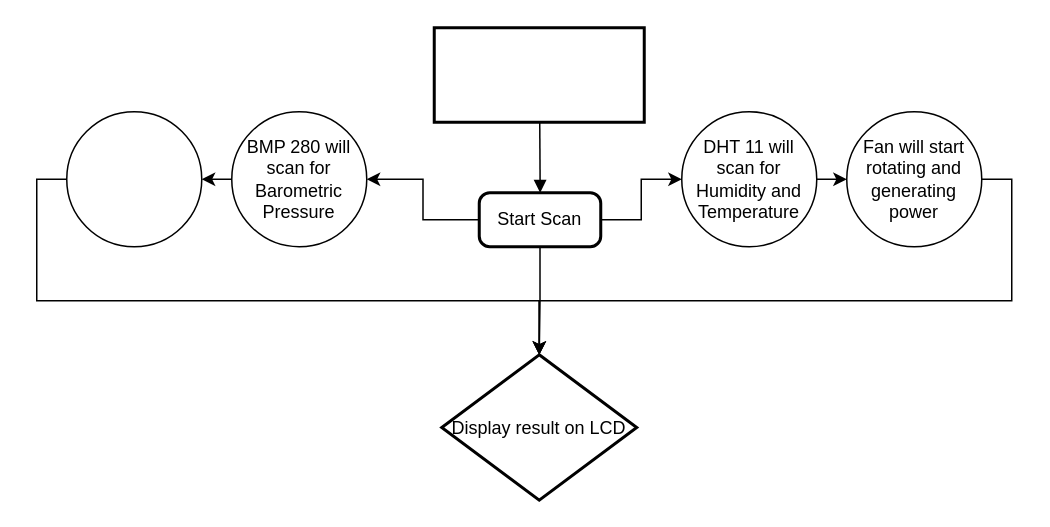
Some shapes in this 1050 by 527 pixel diagram are drawn without their labels. Each missing label, with the box of its shape:
Arduino and LCD ON: (432, 26, 645, 123)
Photoresistor will scan for LI(Light Intensity): (65, 110, 202, 247)
